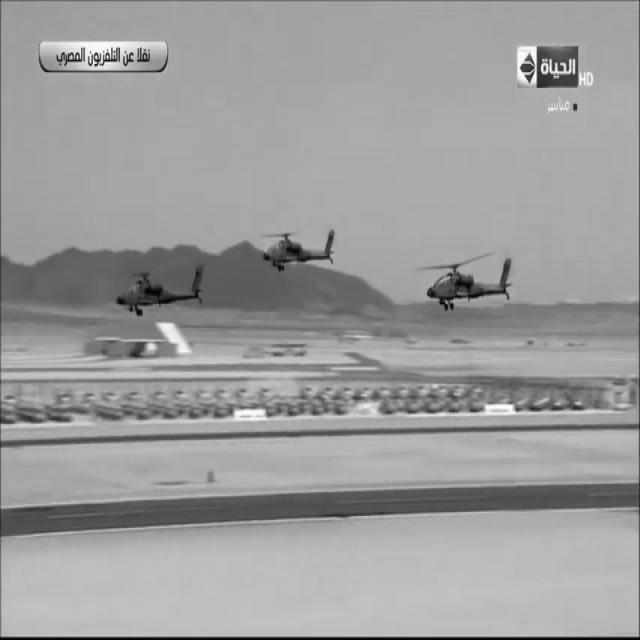helikopter: (417, 232, 525, 326), (108, 238, 206, 328), (254, 213, 350, 292)
